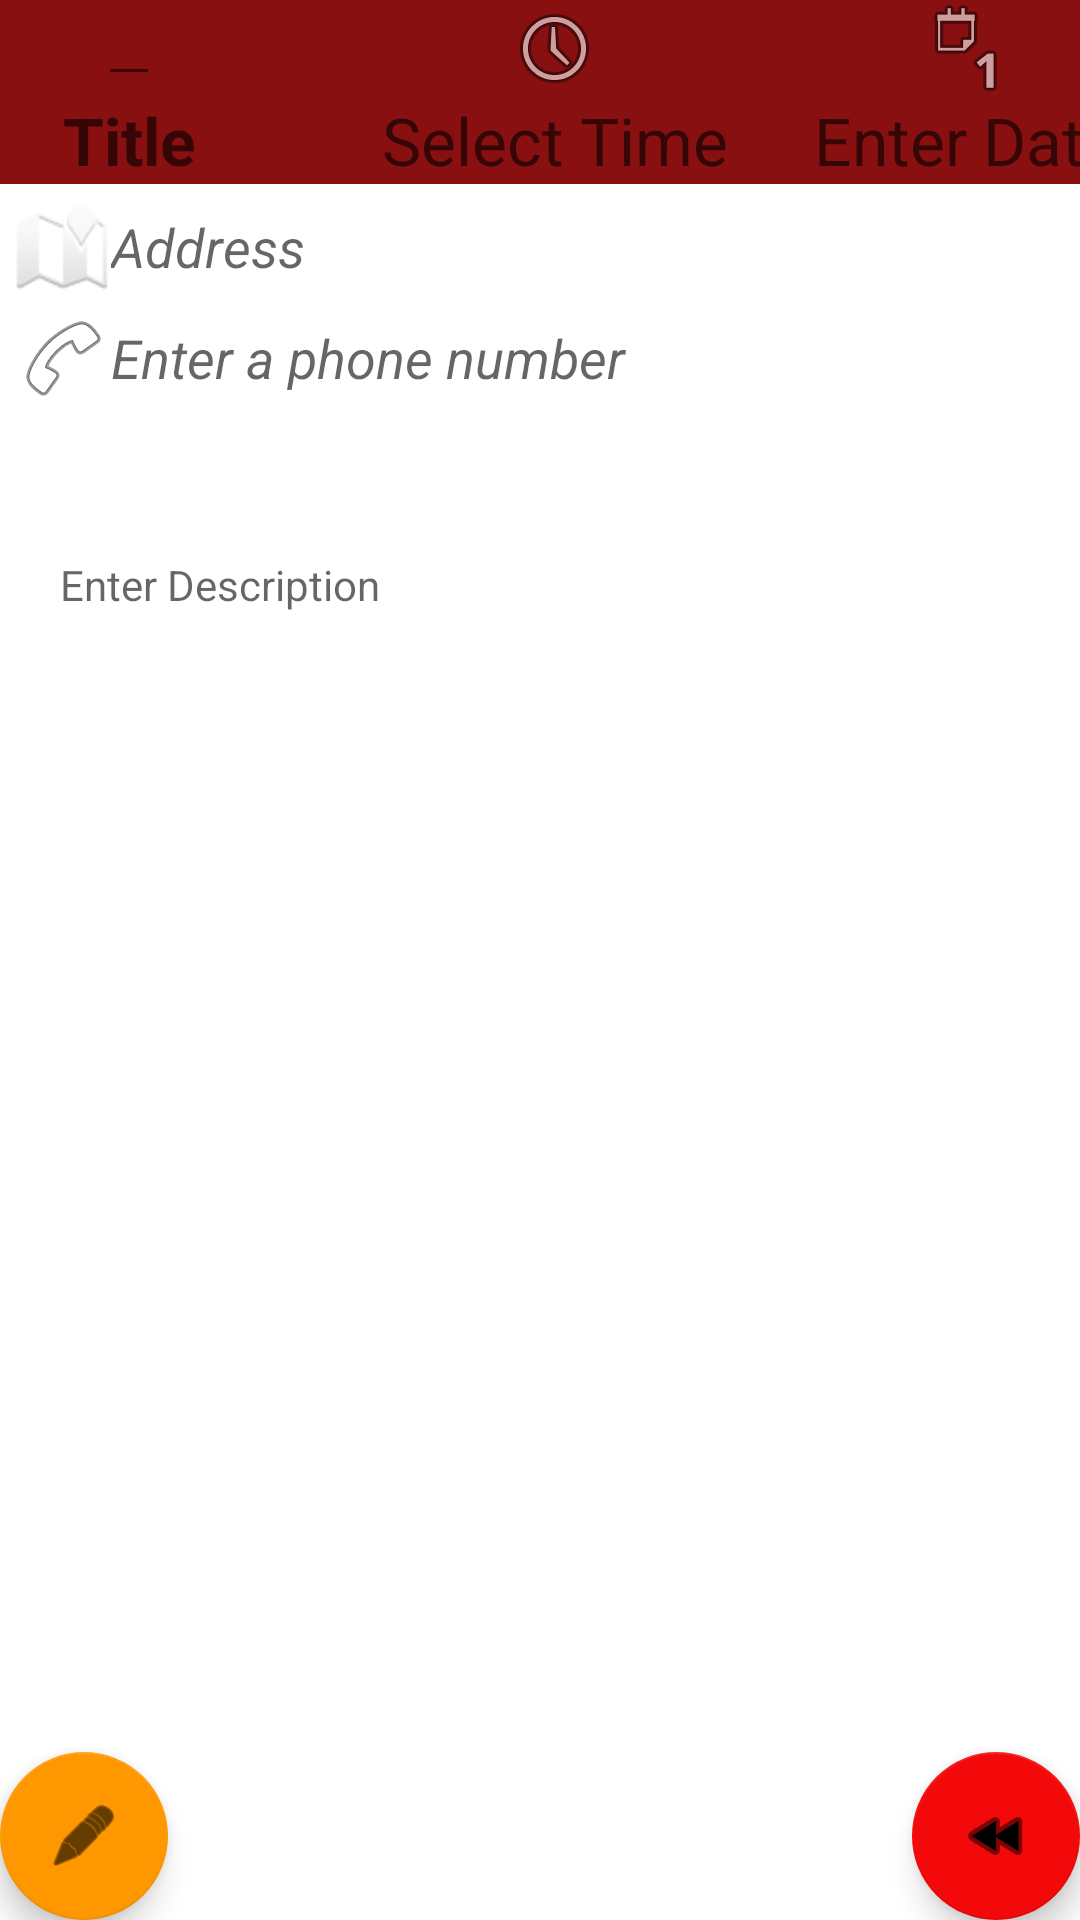

Named icons in this screenshot (1080×1920) and their bounding boxes, [x1,y1,x2,y2]:
edit: [0,1752,168,1920]
rew: [912,1752,1080,1920]
